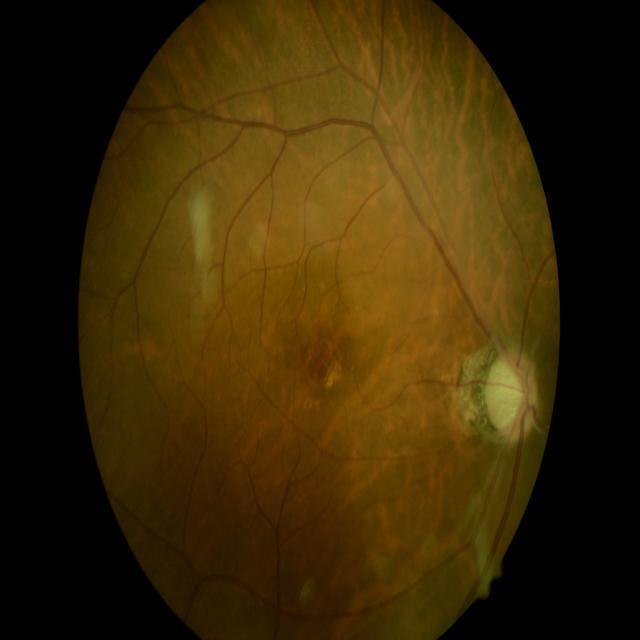cup: (488, 356, 530, 429)
disk: (484, 349, 540, 442)
